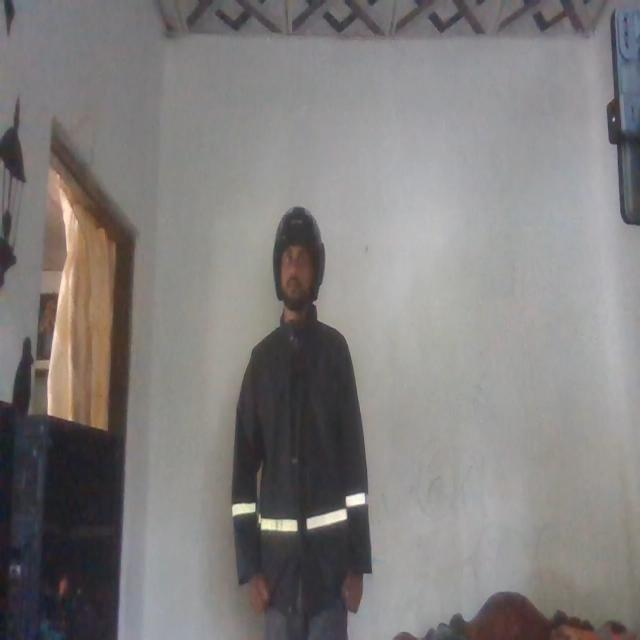Helmet_Wearer: (274, 212, 330, 330)
Jacket_Wearer: (235, 324, 371, 600)
Person: (235, 205, 368, 640)
